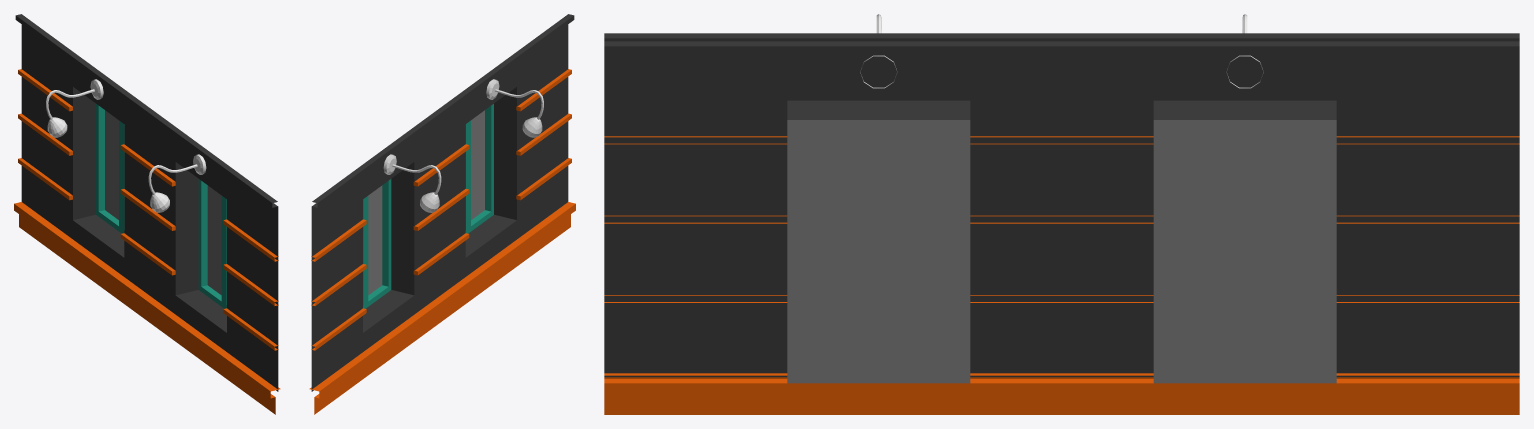
File: SM_B_Build_03.fbx
3 views of the same model, side by side, from view 1: azimuth 30°, elevation 25°; view 2: azimuth 150°, elevation 25°; view 3: azimuth 270°, elevation 25° (orthographic). The views are drawn at different scales.
Visible parts, largest first — view 1: Plane026, SM_B_Build_03, Box144, Box143, Box142, Box140, Box141; view 2: Plane026, SM_B_Build_03, Box144, Box143, Box142, Box141, Box140; view 3: Plane026, SM_B_Build_03, Box143, Box142, Box144.
Part boxes in pixels (left/top/right/bottom): Plane026: left=15, top=14, right=278, bottom=391; SM_B_Build_03: left=14, top=104, right=280, bottom=414; Box144: left=18, top=158, right=278, bottom=350; Box143: left=18, top=113, right=278, bottom=305; Box142: left=18, top=69, right=278, bottom=261; Box140: left=47, top=117, right=67, bottom=137; Box141: left=150, top=192, right=169, bottom=212; Plane026: left=311, top=14, right=574, bottom=391; SM_B_Build_03: left=309, top=104, right=575, bottom=414; Box144: left=311, top=158, right=571, bottom=350; Box143: left=311, top=113, right=571, bottom=305; Box142: left=311, top=69, right=571, bottom=261; Box141: left=522, top=117, right=542, bottom=137; Box140: left=420, top=192, right=439, bottom=212; Plane026: left=604, top=33, right=1519, bottom=377; SM_B_Build_03: left=604, top=120, right=1519, bottom=414; Box143: left=604, top=215, right=1519, bottom=223; Box142: left=604, top=136, right=1519, bottom=144; Box144: left=604, top=295, right=1519, bottom=302.
Bounding box in the file's own units: 214 × 521 × 1140.
